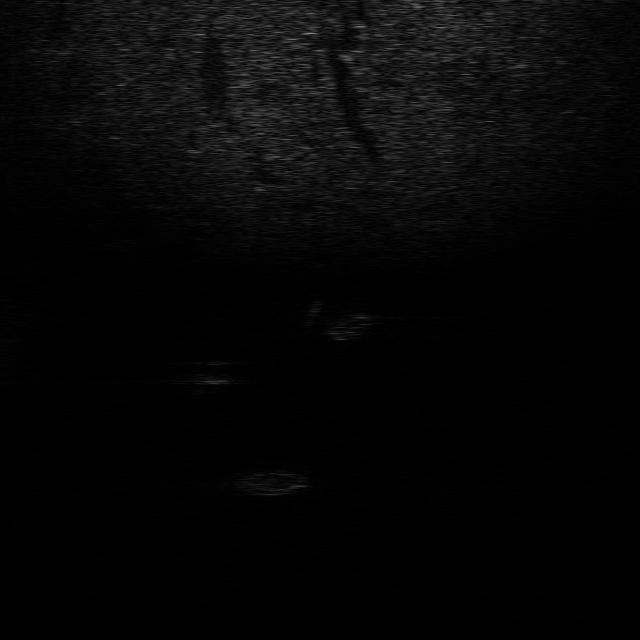ball: (193, 357, 245, 390)
circle cage: (238, 458, 312, 496)
human body: (296, 294, 378, 340)
